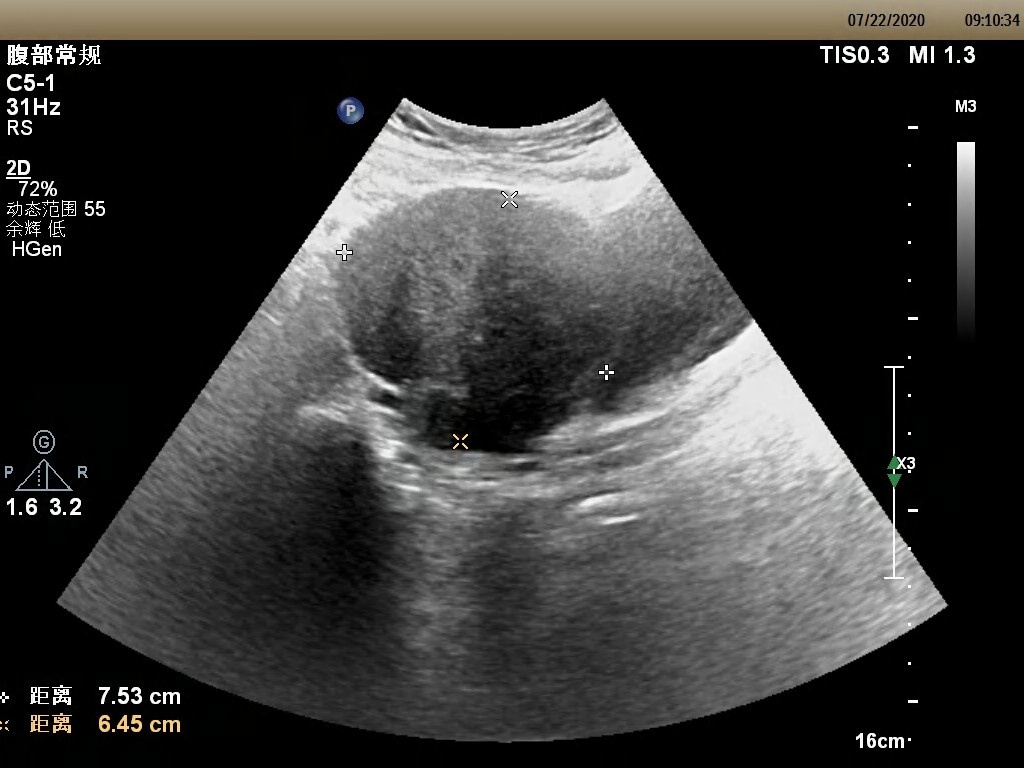肌瘤: (343, 200, 609, 444)
